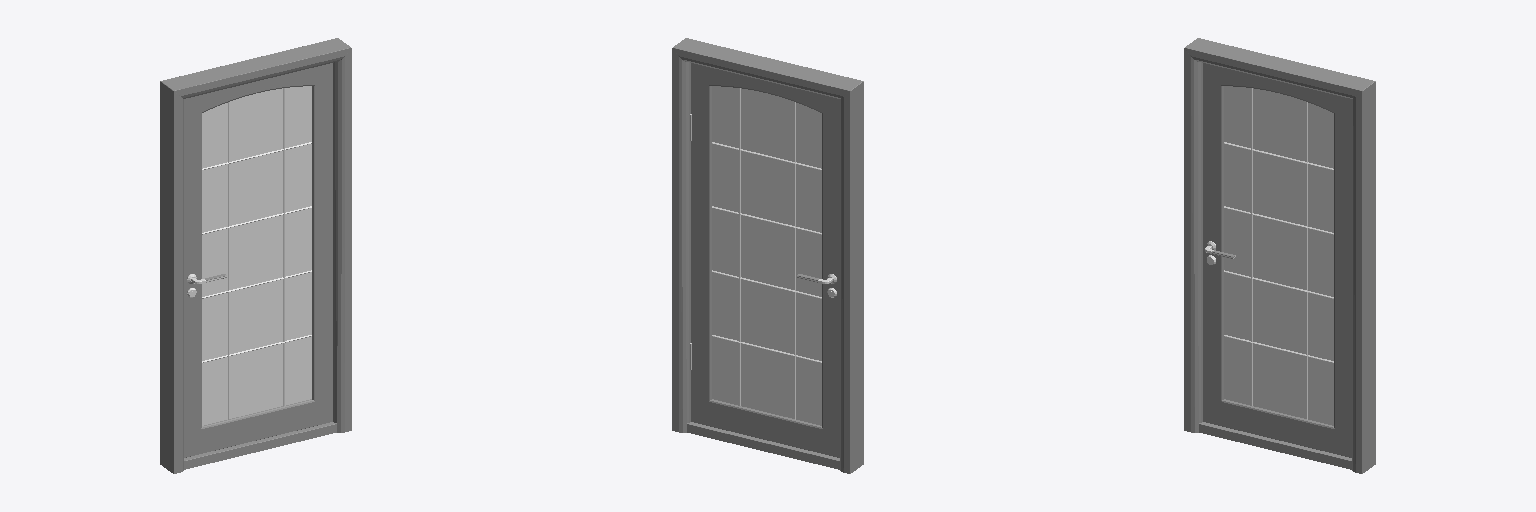
3 renders of one model, left to right at view 1: azimuth 30°, elevation 25°; view 2: azimuth 150°, elevation 25°; view 3: azimuth 330°, elevation 25°, orthographic.
Size of the model in its own units: 1.06 by 2.18 by 0.1797.
Materials: 3 (1 with a texture image).